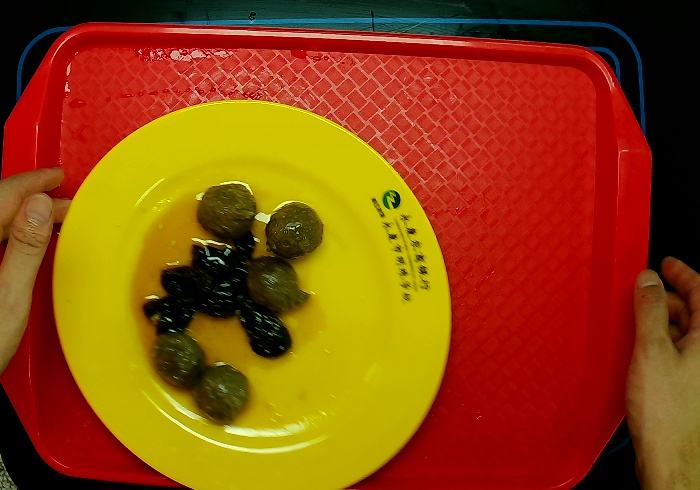YKMZ-Huang_Se_Mian_Pan: (44, 84, 454, 490)
